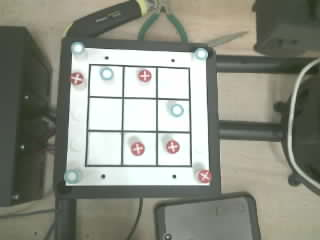blue circle: (64, 170, 81, 184), (170, 104, 183, 116), (100, 67, 113, 79), (71, 42, 84, 54), (194, 48, 208, 59)
board: (64, 42, 213, 185)
cells: (87, 132, 120, 164), (158, 133, 190, 165), (89, 98, 122, 129), (123, 133, 155, 164), (90, 65, 122, 96), (158, 68, 189, 99), (158, 100, 189, 131), (124, 99, 155, 130), (124, 67, 156, 97)
grid: (85, 64, 191, 167)
red cross: (70, 72, 84, 85), (198, 170, 212, 183), (138, 69, 151, 82), (166, 140, 179, 153), (131, 142, 144, 155)
